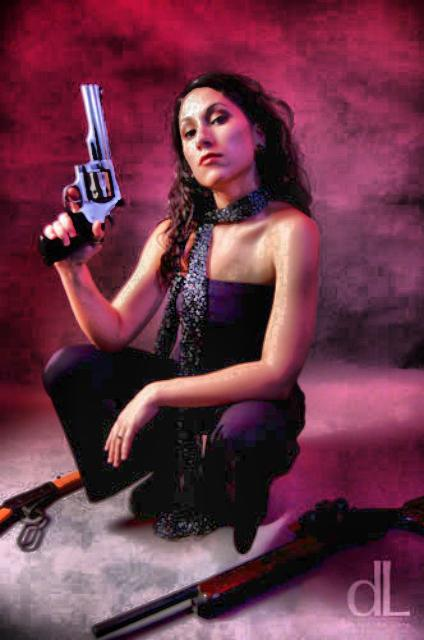pistol: (34, 81, 123, 262)
